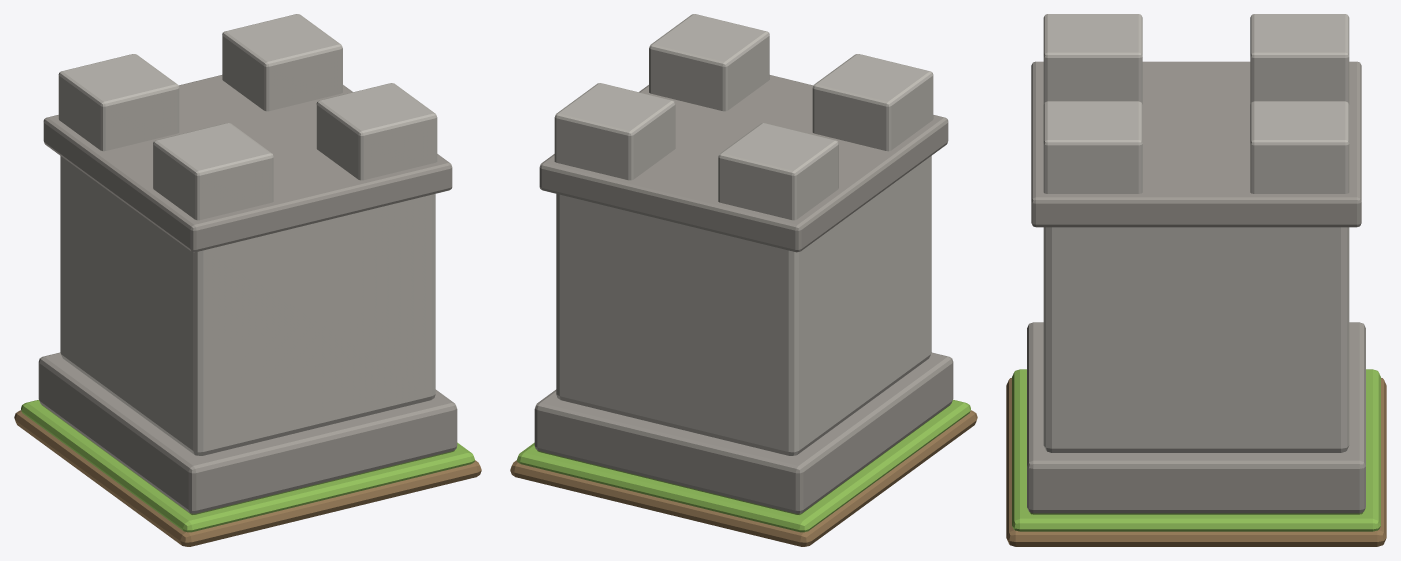
File: wall_lv3.glb
3 renders of one model, left to right at view 1: azimuth 30°, elevation 25°; view 2: azimuth 150°, elevation 25°; view 3: azimuth 270°, elevation 25°, orthographic. The views are drawn at different scales.
Parts seen in each view (by area): view 1: AshlarBody, AshlarPlinth, AshlarLedge, Merlon_1_-1, Merlon_-1_1, Merlon_-1_-1, Merlon_1_1, Base_Grass, Base_Dirt, Base_Inner; view 2: AshlarBody, AshlarPlinth, AshlarLedge, Merlon_1_1, Merlon_-1_-1, Merlon_-1_1, Merlon_1_-1, Base_Grass, Base_Dirt, Base_Inner; view 3: AshlarBody, AshlarLedge, AshlarPlinth, Base_Grass, Merlon_1_1, Merlon_1_-1, Merlon_-1_1, Merlon_-1_-1, Base_Dirt, Base_Inner.
Boxes of the visible parts, <box> form: AshlarBody: <box>60,156,435,455</box>; AshlarPlinth: <box>38,352,457,513</box>; AshlarLedge: <box>43,75,452,252</box>; Merlon_1_-1: <box>316,83,437,180</box>; Merlon_-1_1: <box>58,54,179,151</box>; Merlon_-1_-1: <box>153,123,273,220</box>; Merlon_1_1: <box>222,14,342,111</box>; Base_Grass: <box>21,399,474,532</box>; Base_Dirt: <box>14,410,481,546</box>; Base_Inner: <box>42,405,454,514</box>; AshlarBody: <box>556,156,931,455</box>; AshlarPlinth: <box>534,352,953,513</box>; AshlarLedge: <box>539,75,948,252</box>; Merlon_1_1: <box>554,83,675,180</box>; Merlon_-1_-1: <box>812,54,933,151</box>; Merlon_-1_1: <box>718,123,838,220</box>; Merlon_1_-1: <box>649,14,769,111</box>; Base_Grass: <box>517,399,970,532</box>; Base_Dirt: <box>510,410,977,546</box>; Base_Inner: <box>537,405,949,514</box>; AshlarBody: <box>1043,227,1349,452</box>; AshlarLedge: <box>1031,61,1361,227</box>; AshlarPlinth: <box>1027,322,1365,513</box>; Base_Grass: <box>1012,369,1380,531</box>; Merlon_1_1: <box>1250,101,1349,193</box>; Merlon_1_-1: <box>1043,101,1142,193</box>; Merlon_-1_1: <box>1250,14,1349,104</box>; Merlon_-1_-1: <box>1043,14,1142,104</box>; Base_Dirt: <box>1006,378,1386,546</box>; Base_Inner: <box>1030,512,1362,514</box>.
Bounding box in the file's own units: 0.92 × 1.05 × 0.92.
